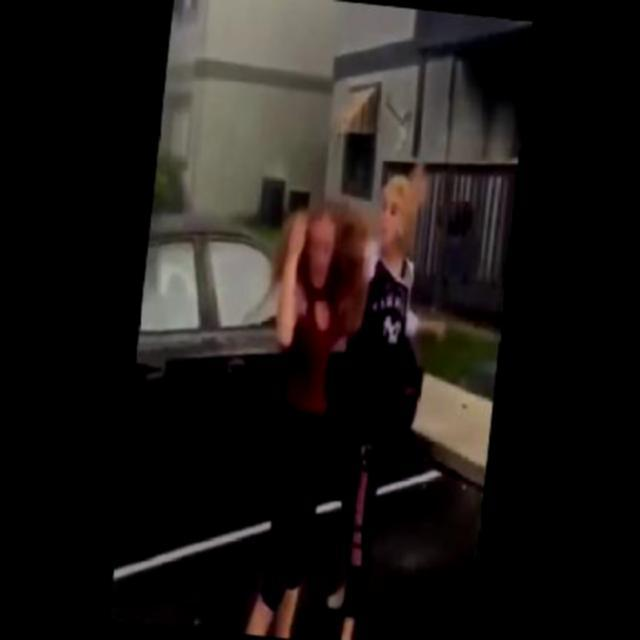fight: (236, 154, 442, 638)
